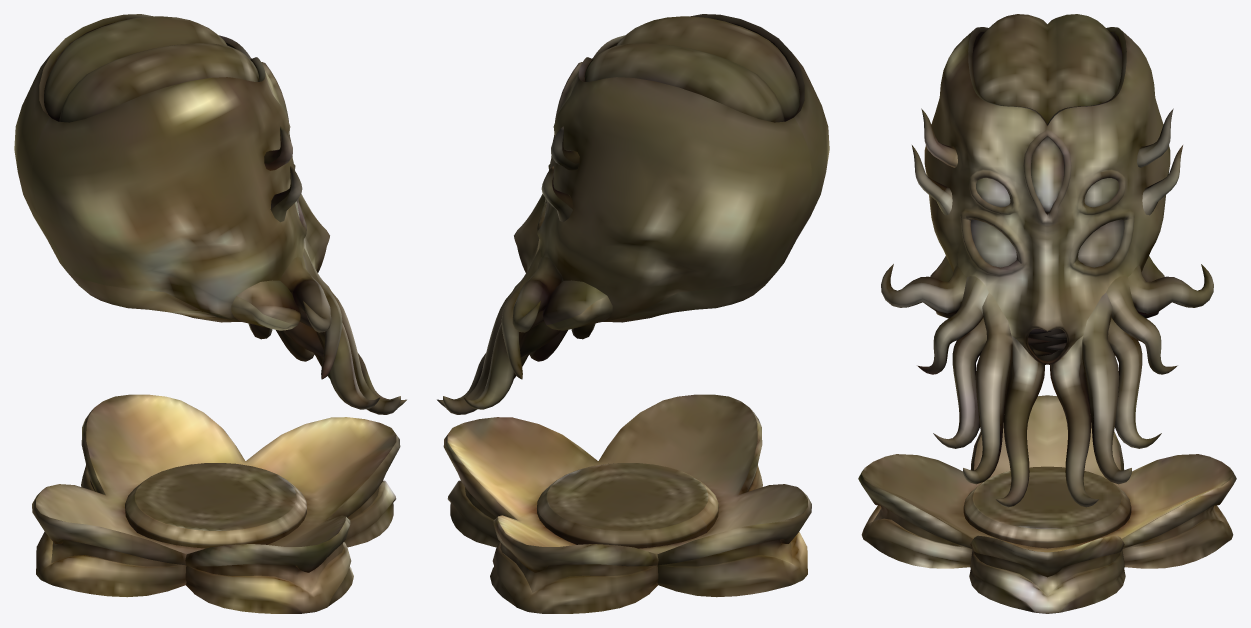
Rendered from SK_YakushimaGoldenStatue_a0b3d0.glb.
The picture shows the model from 3 angles, left to right: view 1: azimuth 30°, elevation 25°; view 2: azimuth 150°, elevation 25°; view 3: azimuth 270°, elevation 25°; orthographic projection. The views are drawn at different scales.
Size of the model in its own units: 1.67 by 2.28 by 1.64.
Materials: 1 (1 with a texture image).
